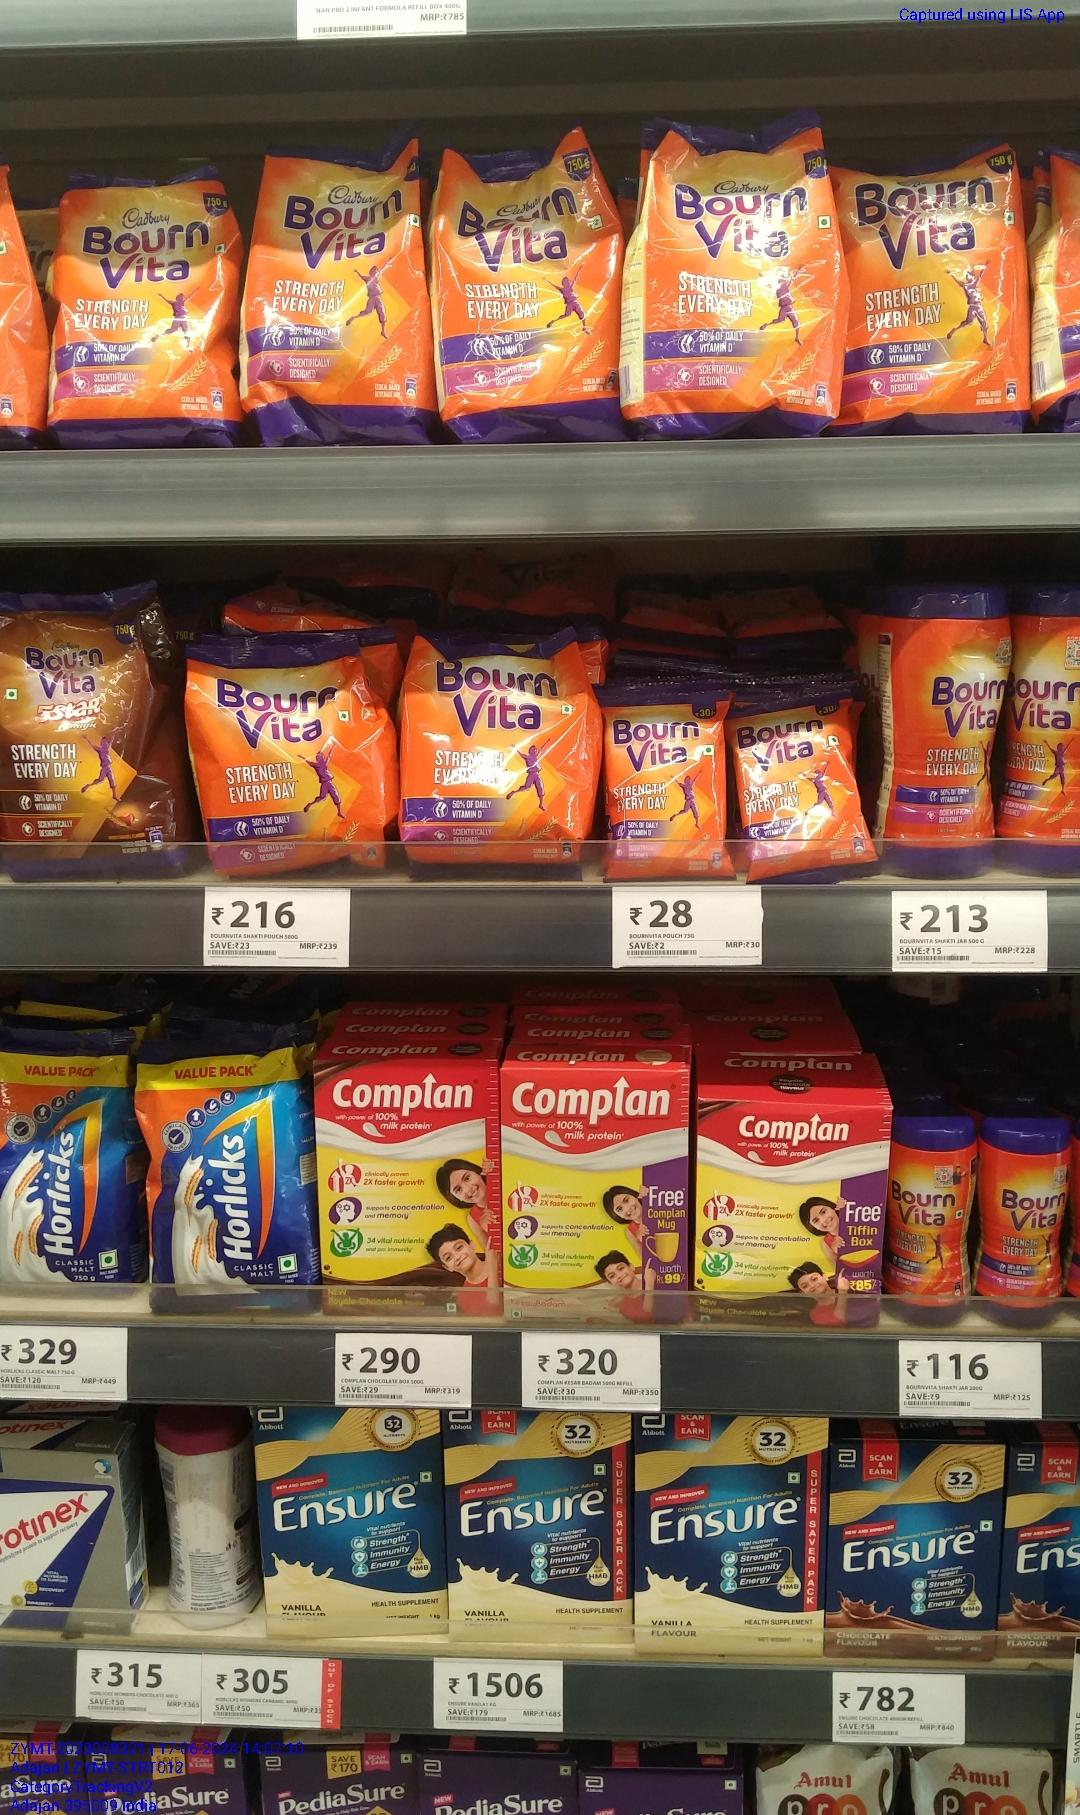BOURN_VITA_200_G_JAR: (980, 1105, 1071, 1325), (891, 1103, 972, 1316)
BOURN_VITA_500_G_JAR: (878, 581, 1000, 874), (1000, 580, 1080, 878)
BOURN_VITA_500_G_POUCH: (194, 639, 395, 874), (405, 639, 597, 875)
BOURN_VITA_750_G_POUCH: (638, 117, 837, 436), (42, 159, 244, 447), (248, 147, 433, 442), (441, 135, 615, 442), (842, 148, 1029, 433)
BOURN_VITA_FIVE_STAR_MAGIC_750_G_POUCH: (0, 591, 185, 874)
COMPLAN_CHOCOLATE_500_GMS_JAR: (320, 1062, 499, 1316), (693, 1093, 883, 1330)
COMPLAN_KESAR_BADAM_500_GMS_PACK: (504, 1067, 687, 1323)
HORLICK_CLASSIC_MALT_750_G_POUCH: (149, 1051, 314, 1316), (0, 1048, 145, 1293)
